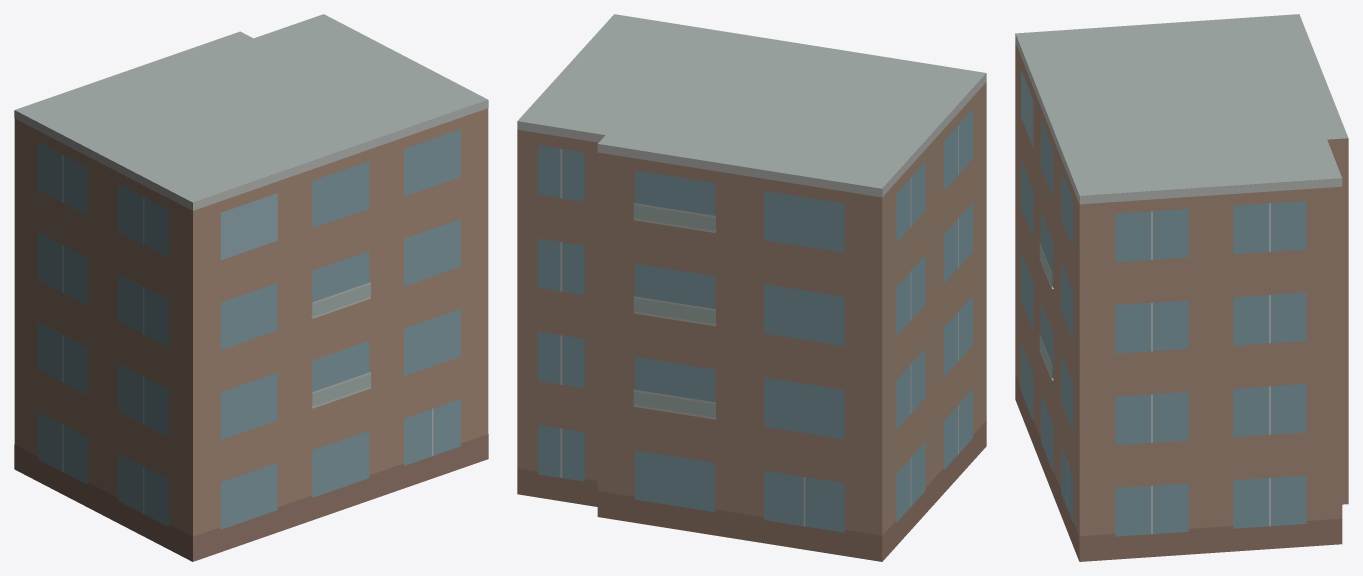
The model's file is survey-upis-32689794.glb.
3 renders of one model, left to right at view 1: azimuth 30°, elevation 25°; view 2: azimuth 150°, elevation 25°; view 3: azimuth 270°, elevation 25°, orthographic. The views are drawn at different scales.
Parts seen in each view (by area): view 1: survey-upis-32689794.tmp; view 2: survey-upis-32689794.tmp; view 3: survey-upis-32689794.tmp.
Part boxes in pixels (x1,y1,x2,y2): survey-upis-32689794.tmp: [14, 14, 488, 561]; survey-upis-32689794.tmp: [517, 14, 986, 561]; survey-upis-32689794.tmp: [1015, 14, 1348, 561].
Bounding box in the file's own units: 11.24 × 10.53 × 8.7.
